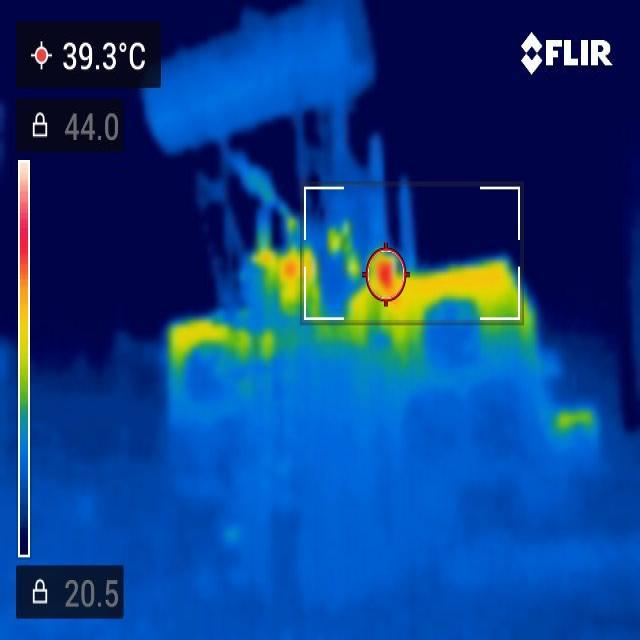Loose Joint -Faulty: (266, 222, 458, 330)
